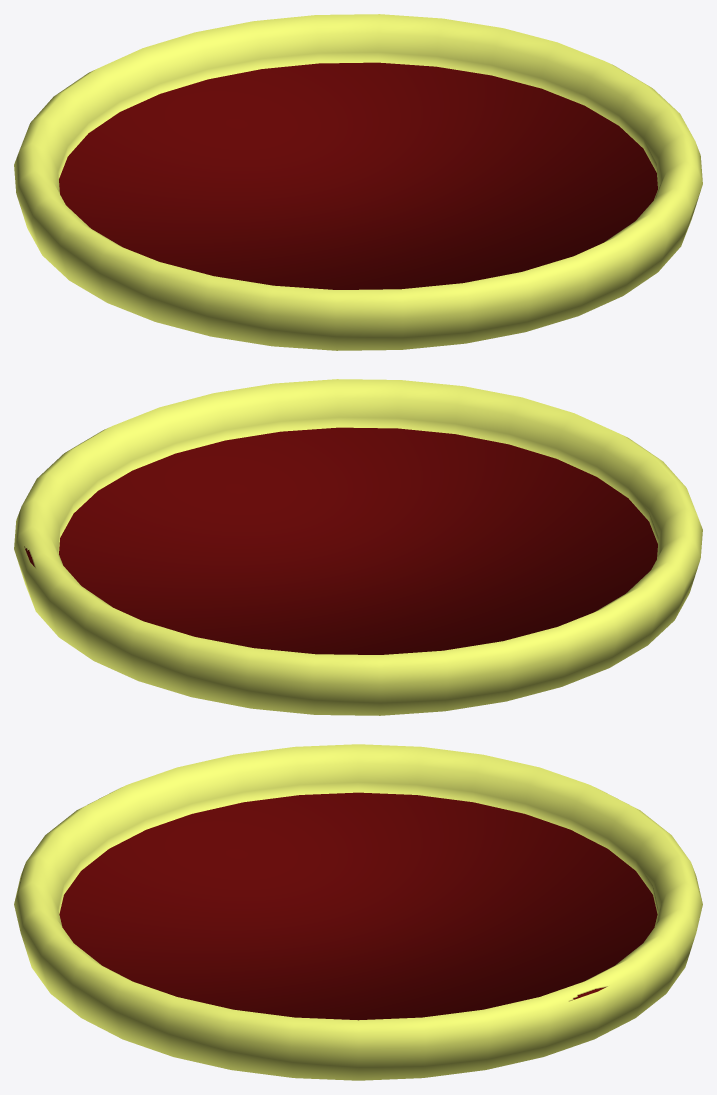
Rendered from EmptyPizza.fbx.
3 views of the same model, one above another, from view 1: azimuth 30°, elevation 25°; view 2: azimuth 150°, elevation 25°; view 3: azimuth 270°, elevation 25° (orthographic).
Parts seen in each view (by area): view 1: Food_Pizza; view 2: Food_Pizza; view 3: Food_Pizza.
Boxes of the visible parts, x1,y1,x2,y2 form: Food_Pizza: [14, 14, 702, 350]; Food_Pizza: [14, 379, 702, 715]; Food_Pizza: [14, 744, 702, 1080].
Bounding box in the file's own units: 33.83 × 3.13 × 33.83.
